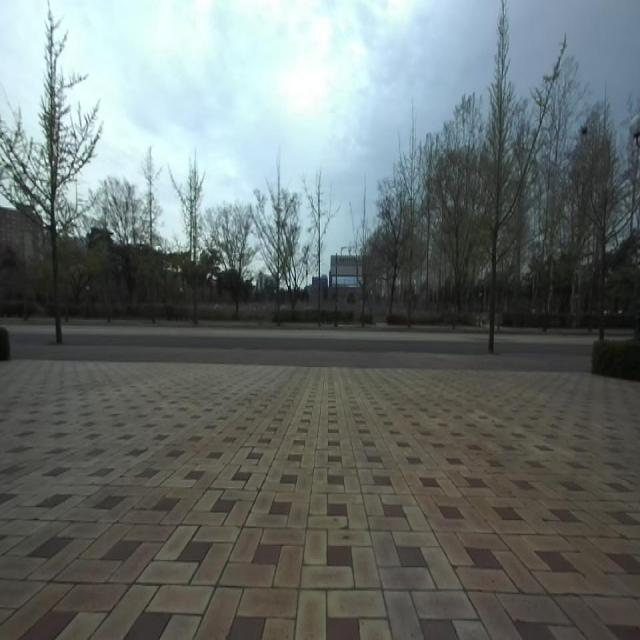sidewalk: (0, 355, 640, 640), (10, 345, 591, 371)
